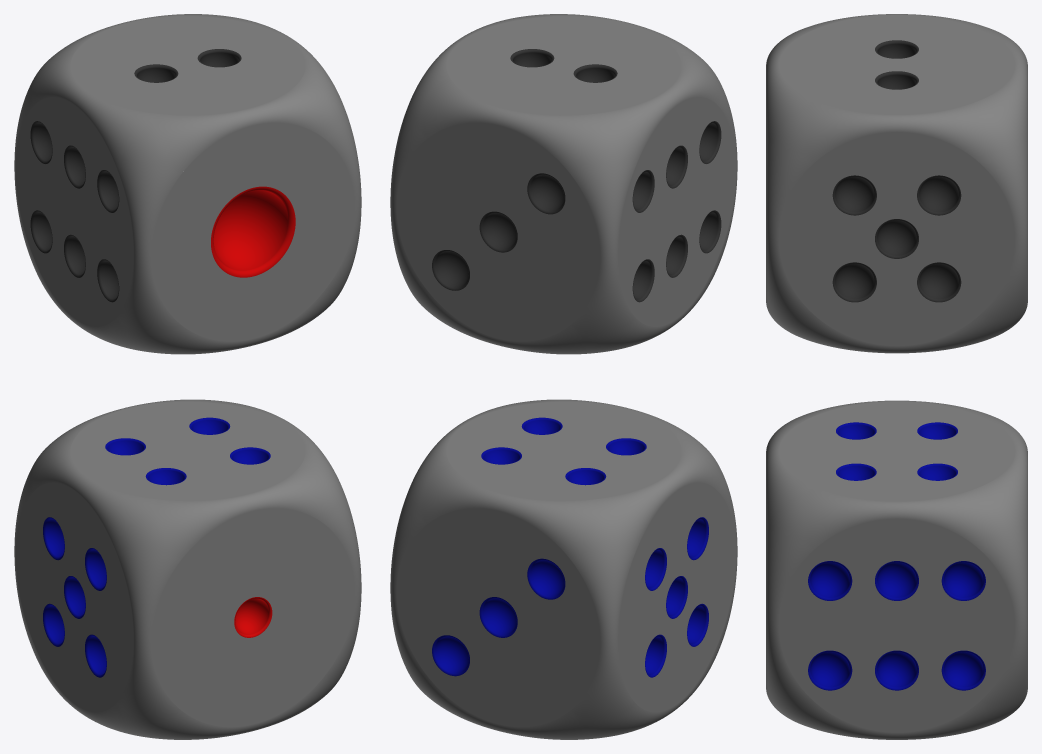
3 views of the same model, side by side, from view 1: azimuth 30°, elevation 25°; view 2: azimuth 150°, elevation 25°; view 3: azimuth 270°, elevation 25° (orthographic).
Visible parts, largest first — view 1: 物件_1, 物件_39, 物件_30, 物件_3, 物件_42, 物件_44, 物件_40, 物件_45, 物件_13, 物件_41, 物件_43, 物件_14 (+9 smaller); view 2: 物件_39, 物件_1, 物件_33, 物件_32, 物件_10, 物件_11, 物件_12, 物件_31, 物件_40, 物件_41, 物件_44, 物件_45 (+13 smaller); view 3: 物件_39, 物件_1, 物件_18, 物件_22, 物件_36, 物件_37, 物件_34, 物件_35, 物件_23, 物件_19, 物件_20, 物件_38 (+7 smaller).
Boxes of the visible parts, left/top/right/bottom form: 物件_1: left=14, top=399, right=361, bottom=739; 物件_39: left=14, top=14, right=361, bottom=354; 物件_30: left=211, top=186, right=295, bottom=277; 物件_3: left=234, top=597, right=272, bottom=637; 物件_42: left=30, top=210, right=52, bottom=253; 物件_44: left=30, top=121, right=52, bottom=163; 物件_40: left=97, top=170, right=119, bottom=212; 物件_45: left=64, top=145, right=85, bottom=188; 物件_13: left=85, top=634, right=106, bottom=677; 物件_41: left=97, top=259, right=119, bottom=302; 物件_43: left=64, top=234, right=85, bottom=277; 物件_14: left=43, top=603, right=64, bottom=646; 物件_39: left=390, top=14, right=737, bottom=354; 物件_1: left=390, top=399, right=737, bottom=739; 物件_33: left=527, top=173, right=565, bottom=214; 物件_32: left=479, top=211, right=517, bottom=252; 物件_10: left=527, top=558, right=565, bottom=599; 物件_11: left=479, top=597, right=517, bottom=637; 物件_12: left=432, top=635, right=469, bottom=676; 物件_31: left=432, top=250, right=469, bottom=290; 物件_40: left=699, top=121, right=721, bottom=163; 物件_41: left=699, top=210, right=721, bottom=253; 物件_44: left=632, top=170, right=654, bottom=212; 物件_45: left=666, top=145, right=687, bottom=188; 物件_39: left=766, top=14, right=1027, bottom=353; 物件_1: left=766, top=400, right=1027, bottom=739; 物件_18: left=808, top=650, right=852, bottom=690; 物件_22: left=941, top=650, right=985, bottom=690; 物件_36: left=917, top=262, right=961, bottom=302; 物件_37: left=832, top=262, right=876, bottom=302; 物件_34: left=832, top=175, right=876, bottom=215; 物件_35: left=917, top=175, right=961, bottom=215; 物件_23: left=875, top=650, right=918, bottom=690; 物件_19: left=808, top=561, right=852, bottom=600; 物件_20: left=941, top=561, right=985, bottom=600; 物件_38: left=875, top=219, right=918, bottom=258.
Size of the model in its own units: 20 by 52.58 by 20.
